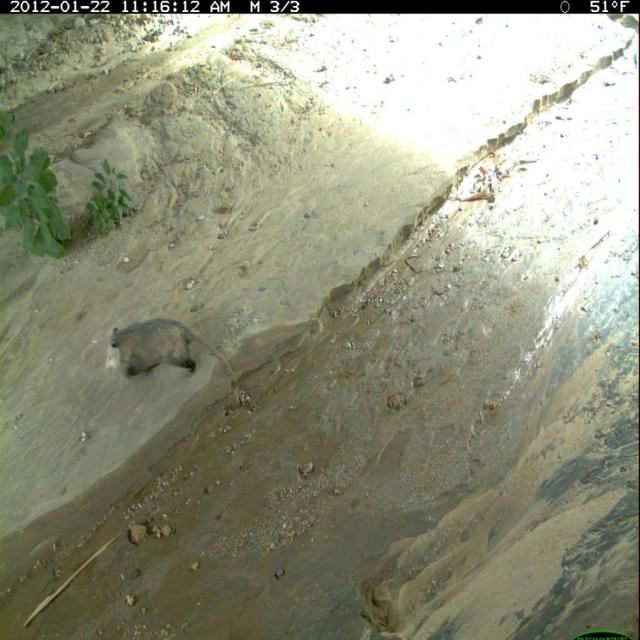opossum: (103, 314, 240, 385)
